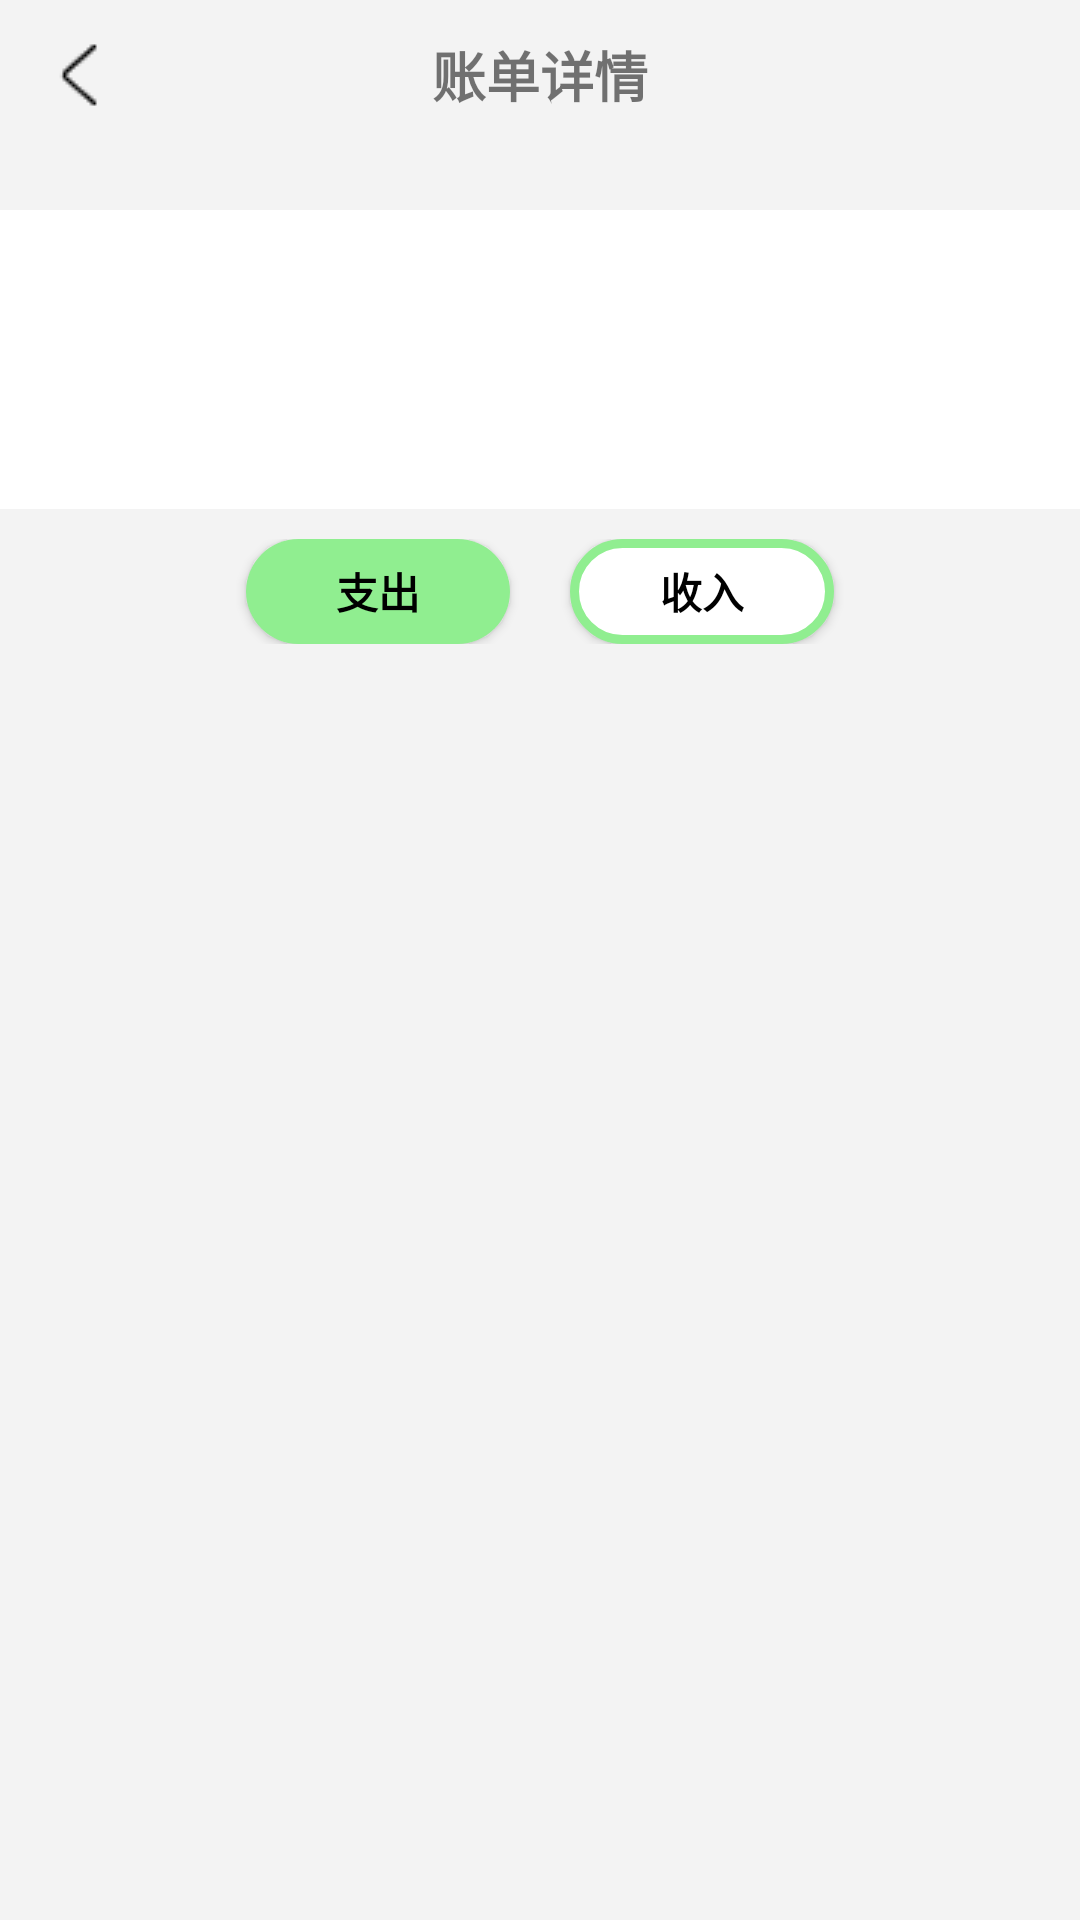

Where icons sit on this 1080 x 1920 app screen, as (x1, y1, x2, y2):
it back: (62, 44, 97, 106)
